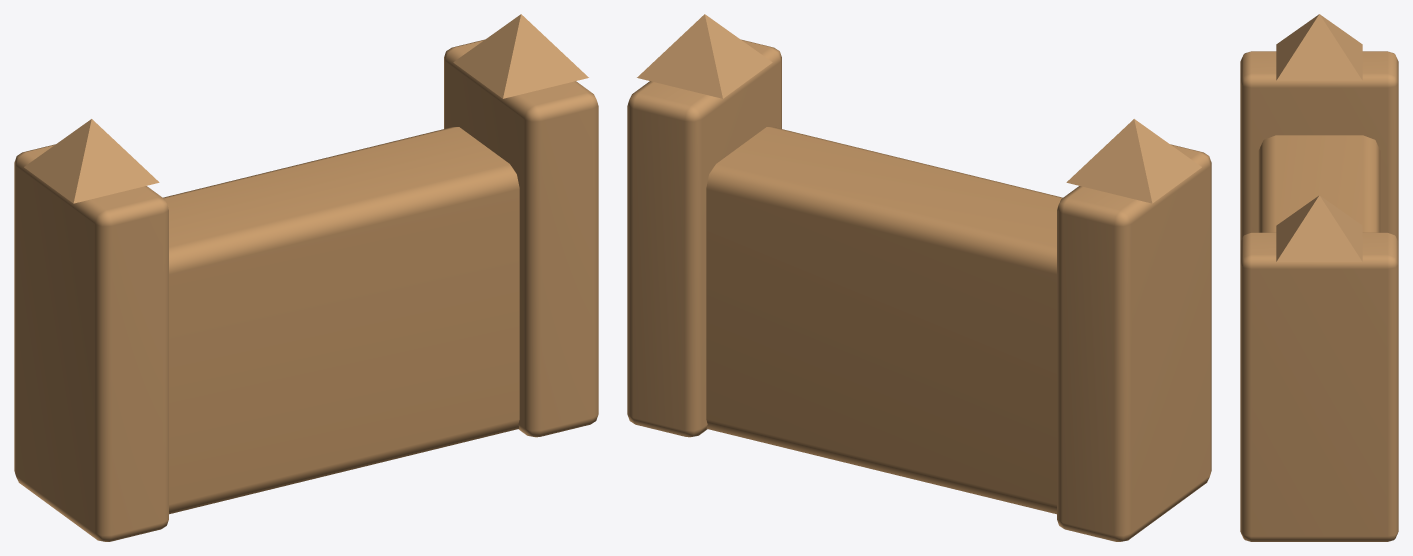
File: NJD-23.glb
3 views of the same model, side by side, from view 1: azimuth 30°, elevation 25°; view 2: azimuth 150°, elevation 25°; view 3: azimuth 270°, elevation 25° (orthographic). The views are drawn at different scales.
Parts seen in each view (by area): view 1: plastered boundary, boundary post, boundary post.001, Cone, Cone.001; view 2: plastered boundary, boundary post, boundary post.001, Cone, Cone.001; view 3: boundary post.001, boundary post, plastered boundary, Cone, Cone.001.
Part boxes in pixels (x1,y1,x2,y2): plastered boundary: [163, 127, 519, 514]; boundary post: [14, 144, 168, 541]; boundary post.001: [444, 39, 598, 437]; Cone: [24, 119, 159, 203]; Cone.001: [453, 14, 588, 98]; plastered boundary: [706, 127, 1062, 514]; boundary post: [1057, 144, 1211, 541]; boundary post.001: [627, 39, 781, 437]; Cone: [1066, 119, 1201, 203]; Cone.001: [637, 14, 772, 98]; boundary post.001: [1240, 232, 1398, 541]; boundary post: [1240, 51, 1398, 242]; plastered boundary: [1258, 135, 1380, 232]; Cone: [1276, 14, 1362, 80]; Cone.001: [1276, 195, 1362, 261].
Size of the model in its own units: 2.11 by 1.52 by 0.65.
